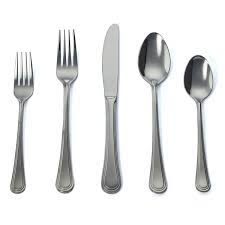Lyzka: (137, 30, 171, 88), (183, 52, 217, 102)
Noz: (101, 23, 122, 98)
Widelec: (56, 27, 80, 84), (12, 51, 36, 100)
